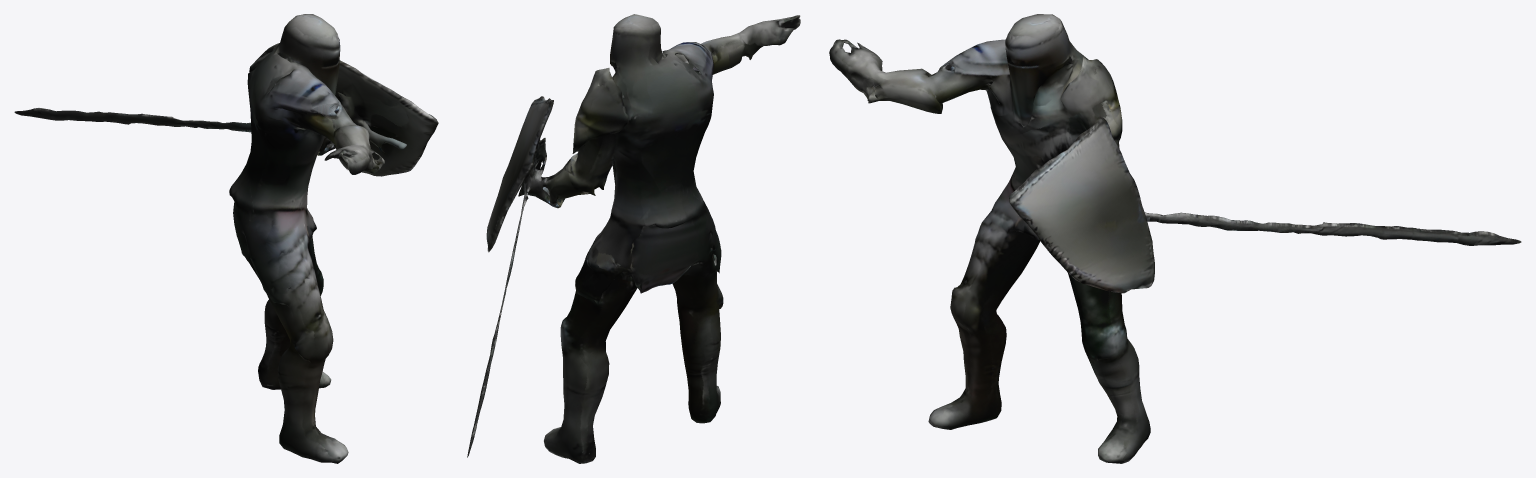
The model's file is 8_textured_frame_000000.glb.
3 views of the same model, side by side, from view 1: azimuth 30°, elevation 25°; view 2: azimuth 150°, elevation 25°; view 3: azimuth 270°, elevation 25° (orthographic). The views are drawn at different scales.
Visible parts, largest first — view 1: geometry_0; view 2: geometry_0; view 3: geometry_0.
Part boxes in pixels (x1,y1,x2,y2): geometry_0: (14, 14, 438, 463); geometry_0: (467, 14, 800, 463); geometry_0: (829, 14, 1521, 463).
Size of the model in its own units: 0.611 by 1.25 by 1.86.
Materials: 1 (1 with a texture image).
